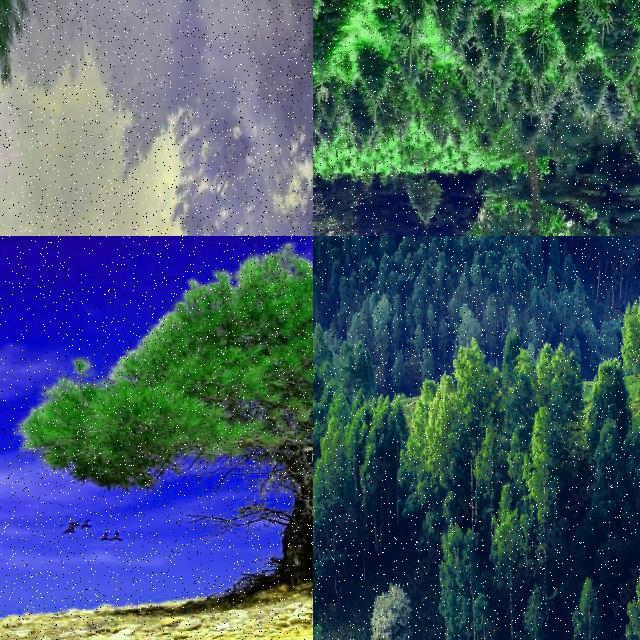tree: (47, 236, 313, 590), (0, 0, 96, 236), (376, 0, 496, 116), (313, 0, 407, 100), (548, 338, 588, 522), (505, 0, 589, 76), (313, 418, 357, 550), (439, 515, 485, 640), (313, 0, 373, 92), (424, 372, 468, 492), (314, 0, 366, 96), (397, 371, 431, 504), (490, 518, 526, 640), (454, 344, 498, 430), (586, 354, 630, 430), (314, 0, 354, 80), (372, 576, 416, 640), (554, 0, 592, 72), (516, 28, 558, 92), (503, 370, 541, 436), (574, 0, 628, 46), (599, 27, 639, 89), (590, 418, 618, 506), (475, 15, 513, 79), (404, 169, 444, 227), (572, 578, 608, 640), (360, 422, 386, 506), (472, 0, 532, 36), (312, 0, 343, 64), (532, 408, 556, 484), (623, 403, 640, 508), (475, 440, 497, 520), (358, 54, 389, 110), (520, 580, 548, 640), (384, 1, 430, 36), (313, 2, 331, 90), (574, 70, 606, 119), (432, 0, 468, 42), (372, 292, 392, 360), (349, 94, 375, 146), (624, 293, 640, 377), (414, 65, 438, 115), (604, 82, 628, 130), (519, 237, 545, 280), (314, 0, 338, 46), (319, 86, 343, 130), (458, 304, 480, 352), (350, 338, 370, 390), (313, 28, 329, 92), (391, 399, 411, 449), (313, 46, 329, 106), (502, 329, 520, 377), (314, 56, 326, 116), (628, 120, 640, 177), (312, 320, 328, 360), (571, 275, 587, 313), (333, 391, 351, 424), (412, 324, 428, 360), (545, 266, 559, 306), (314, 112, 326, 156), (438, 318, 450, 362), (312, 142, 324, 185), (314, 156, 326, 197), (314, 96, 326, 136), (312, 126, 324, 166), (559, 288, 569, 336), (563, 255, 577, 289), (376, 236, 396, 256), (421, 348, 433, 379), (498, 264, 510, 294), (486, 252, 498, 280), (510, 262, 522, 290), (314, 274, 322, 306), (436, 236, 448, 250)
